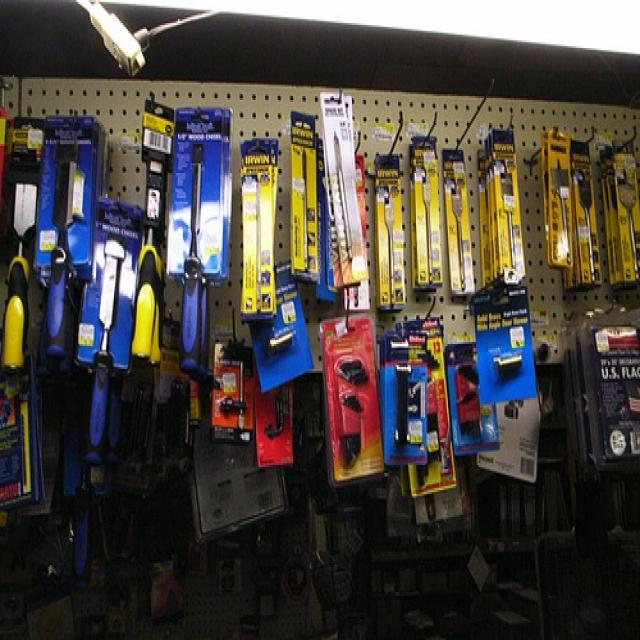screw driver: (172, 132, 211, 382)
